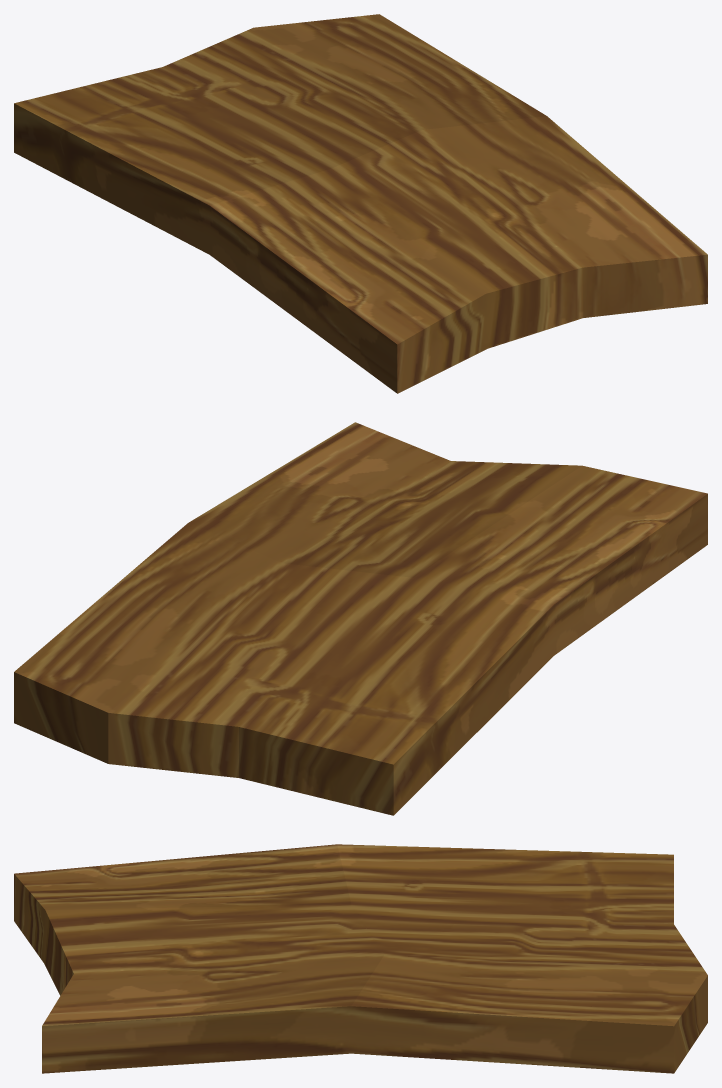
The model's file is plank_2x1.glb.
The picture shows the model from 3 angles, top to bottom: view 1: azimuth 30°, elevation 25°; view 2: azimuth 150°, elevation 25°; view 3: azimuth 270°, elevation 25°; orthographic projection. The views are drawn at different scales.
Visible parts, largest first — view 1: plank_1x2_small; view 2: plank_1x2_small; view 3: plank_1x2_small.
Part boxes in pixels (x1,y1,x2,y2): plank_1x2_small: (14, 14, 707, 393); plank_1x2_small: (14, 422, 707, 815); plank_1x2_small: (14, 844, 707, 1073).
Size of the model in its own units: 1.28 by 0.2354 by 2.2.
Materials: 1 (1 with a texture image).
